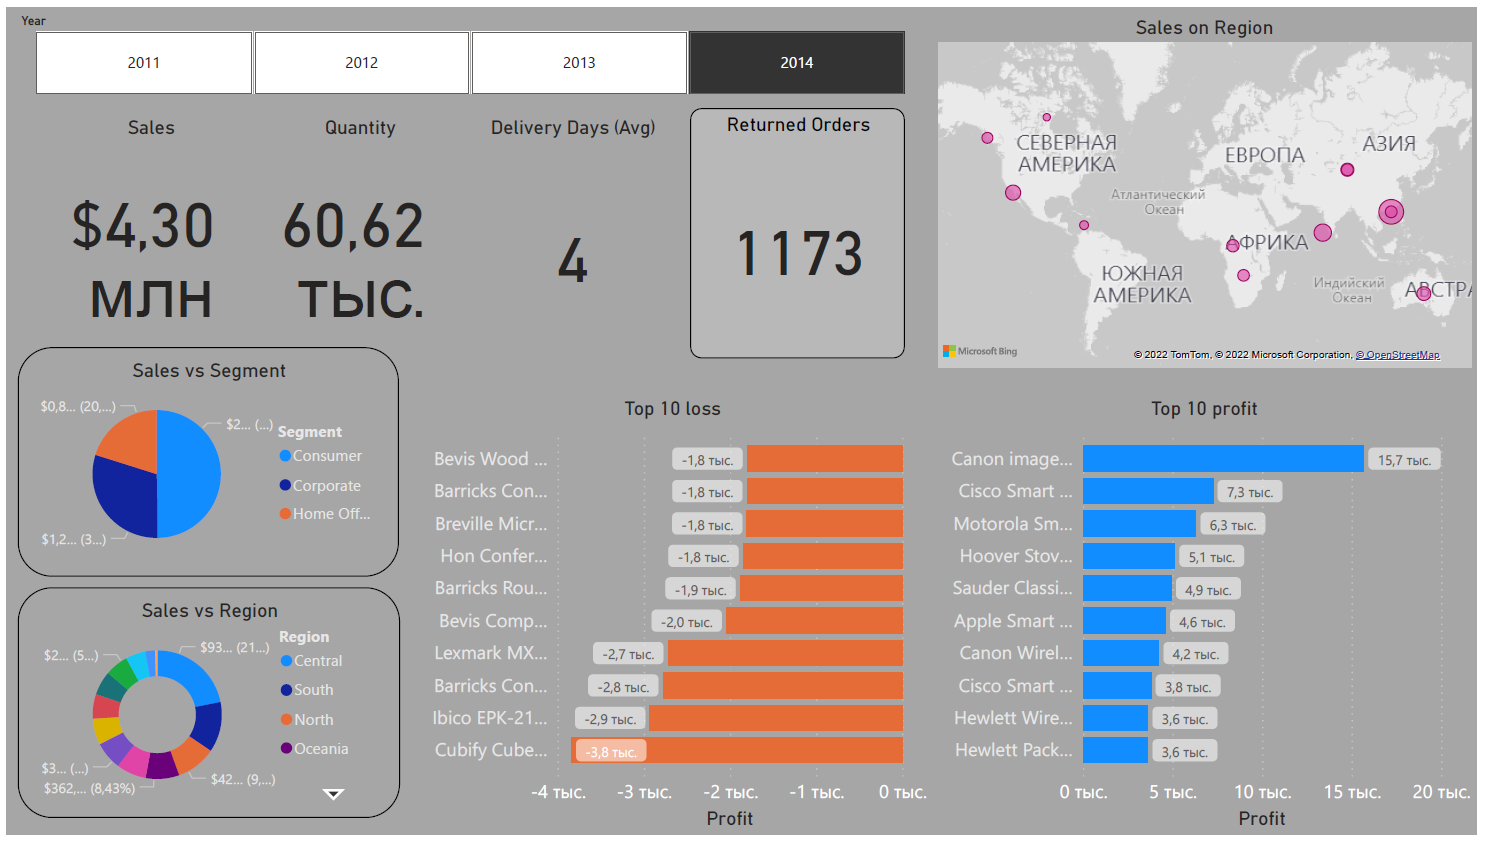

What the dashboard file says about the page in this screenshot:
{"tool":"powerbi","page":{"name":"Страница 1","canvas":[1280,720],"ordinal":0},"visuals":[{"type":"card","title":"Sales","fields":{"Values":["Sum(Orders.Sales)"]},"box":[9.7,94.3,232.5,217.9],"z":0},{"type":"card","title":"Quantity","fields":{"Values":["Sum(Orders.Quantity)"]},"box":[195.5,94.3,225.7,217.9],"z":1000},{"type":"card","title":"Delivery Days (Avg)","fields":{"Values":["Avg(Orders.Delivery Days)"]},"box":[376.4,94.3,233.4,217.9],"z":2000},{"type":"slicer","fields":{"Values":["Orders.Year"]},"box":[0,0,806.3,81.7],"z":3000},{"type":"card","title":"Returned Orders","fields":{"Values":["Sum(Returns.Return Orders)"]},"box":[597.2,94.3,186.7,217.9],"z":4000},{"type":"map","title":"Sales on Region","fields":{"Category":["Orders.Region"],"Size":["Sum(Orders.Sales)"]},"box":[806.3,6.8,473.7,312.2],"z":5000},{"type":"barChart","title":"Profit on Products","fields":{"Category":["Orders.Product Name"],"Y":["Sum(Orders.Profit)"]},"box":[806.3,338.5,473.7,381.3],"z":6000},{"type":"barChart","title":"Profit on Products","fields":{"Category":["Orders.Product Name"],"Y":["Sum(Orders.Profit)"]},"box":[354,338.5,452.3,381.3],"z":7000},{"type":"pieChart","title":"Sales vs Segment","fields":{"Category":["Orders.Segment"],"Y":["Sum(Orders.Sales)"]},"box":[9.7,295.7,331.7,200.4],"z":7001},{"type":"donutChart","title":"Sales vs Segment","fields":{"Category":["Orders.Region"],"Y":["Sum(Orders.Sales)"]},"box":[9.7,504.8,332.6,201.3],"z":7002}]}

Visuals, with their boxes in screenshot pixels (x1, y1, x2, y2), scaled from the page's 1280x720 canvas onto the 1487x845 screenshot:
"Sales" card: 11/111/281/366
"Quantity" card: 227/111/489/366
"Delivery Days (Avg)" card: 437/111/708/366
slicer - Orders.Year: 0/0/937/96
"Returned Orders" card: 694/111/911/366
"Sales on Region" map: 937/8/1486/374
"Profit on Products" barChart: 937/397/1486/844
"Profit on Products" barChart: 411/397/937/844
"Sales vs Segment" pieChart: 11/347/397/582
"Sales vs Segment" donutChart: 11/592/398/829
